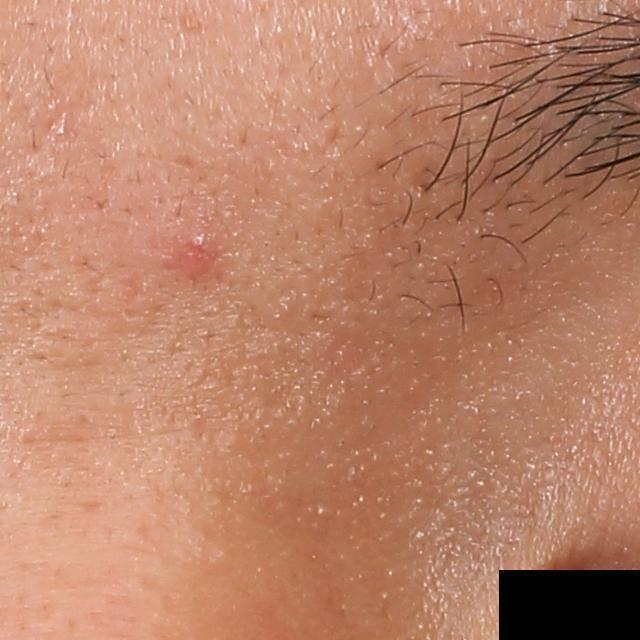papule: (182, 233, 212, 271)
